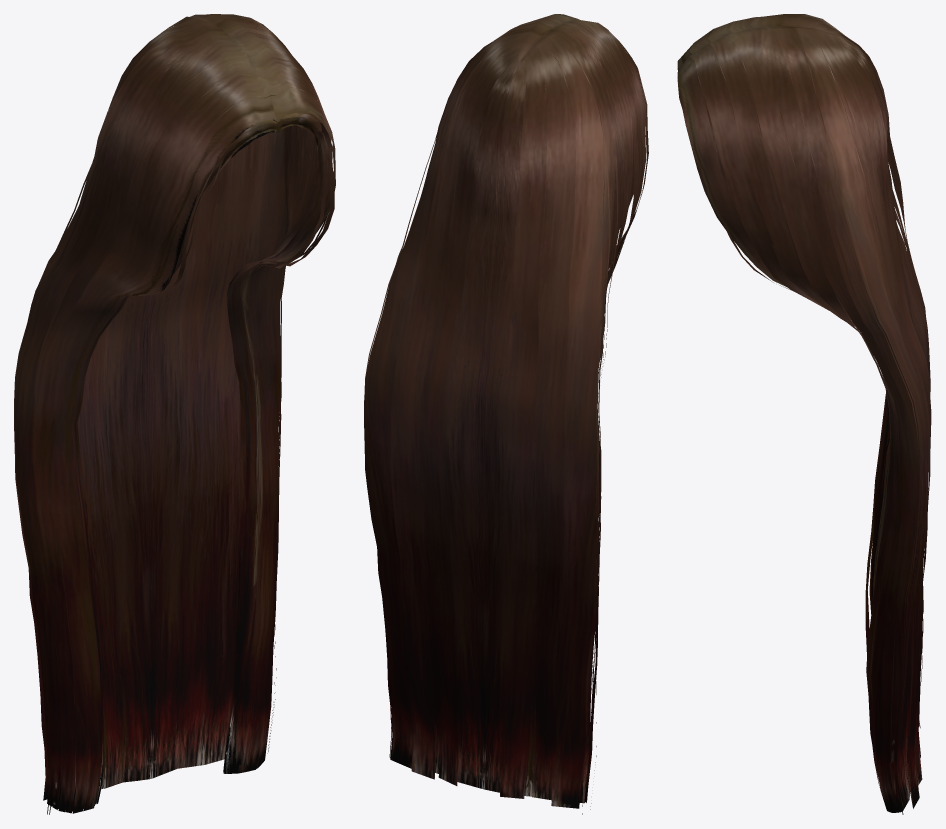
File: hair1.glb
3 views of the same model, side by side, from view 1: azimuth 30°, elevation 25°; view 2: azimuth 150°, elevation 25°; view 3: azimuth 270°, elevation 25° (orthographic). The views are drawn at different scales.
Visible parts, largest first — view 1: hairlong-long01; view 2: hairlong-long01; view 3: hairlong-long01.
Part boxes in pixels (box(x1,y1,x2,y2)): hairlong-long01: box(14, 14, 335, 814); hairlong-long01: box(364, 14, 648, 814); hairlong-long01: box(677, 14, 931, 814).
Bounding box in the file's own units: 0.2958 × 0.8638 × 0.2648.
1 material, 1 textured.
